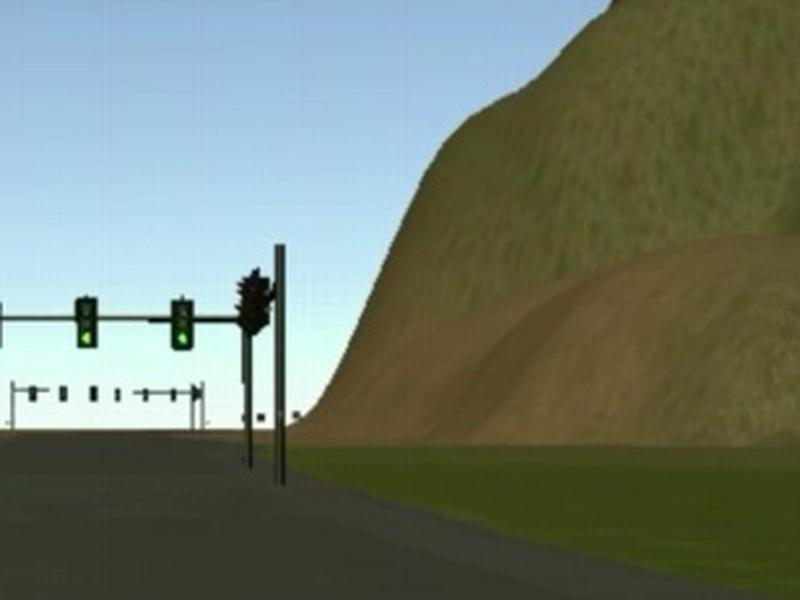Green: (76, 295, 97, 349), (172, 300, 194, 349)
